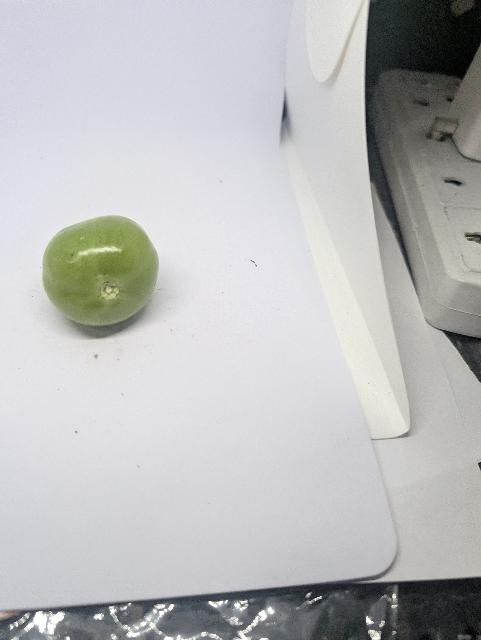green: (39, 213, 162, 329)
